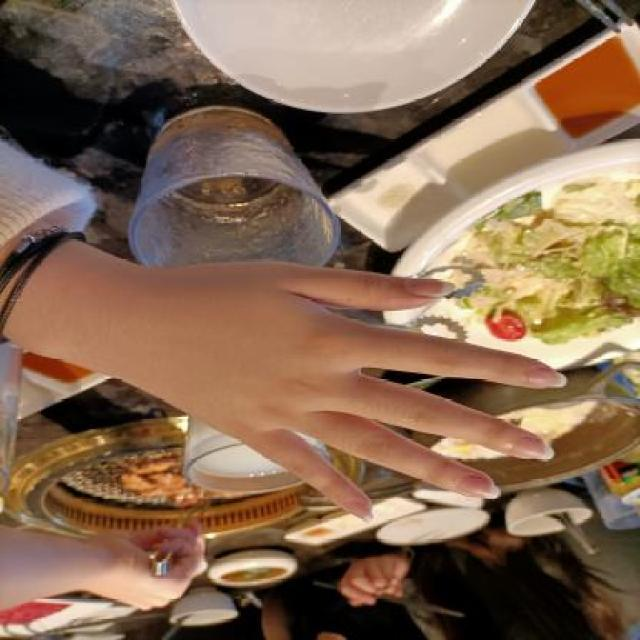bare_hand: (101, 253, 587, 532)
